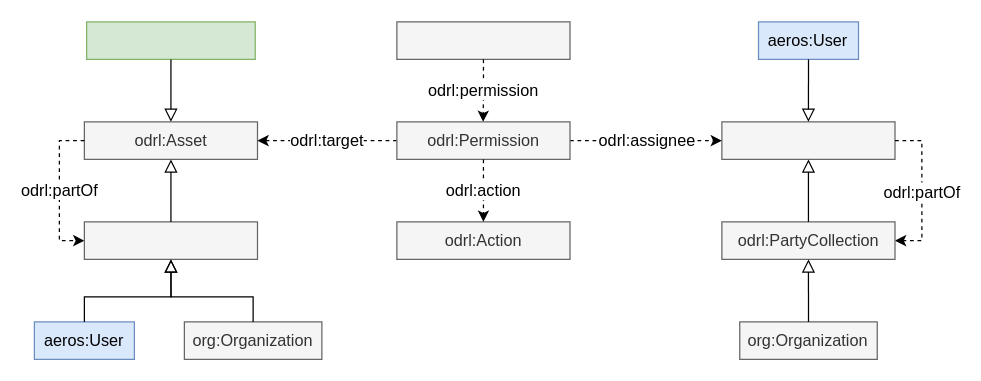
The diagram is 981 pixels wide and 381 high, and some of its shapes have lost their labels. The shapes that lost their labels are listed below. From the top down, each one's centre as x and y in pixels, then its label:
At [170,40]: "aerdcat:DataProduct".
At [483,40]: "odrl:Policy".
At [808,140]: "odrl:Party".
At [170,240]: "odrl:AssetCollection".
